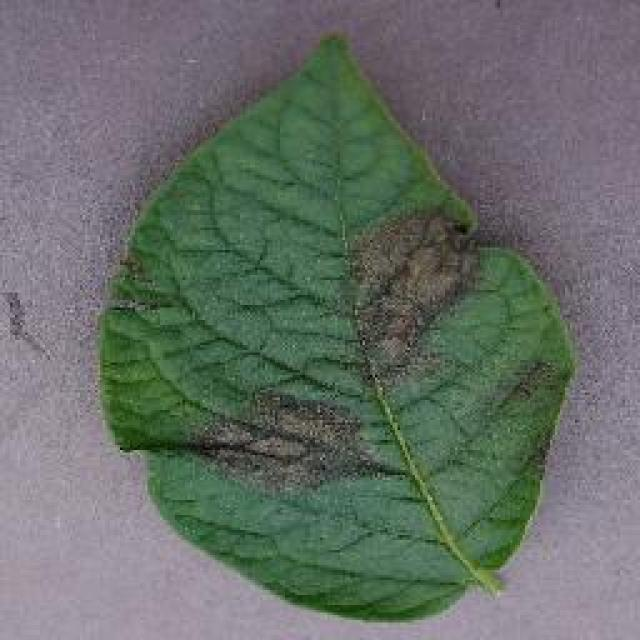late_blight: (92, 27, 578, 625)
